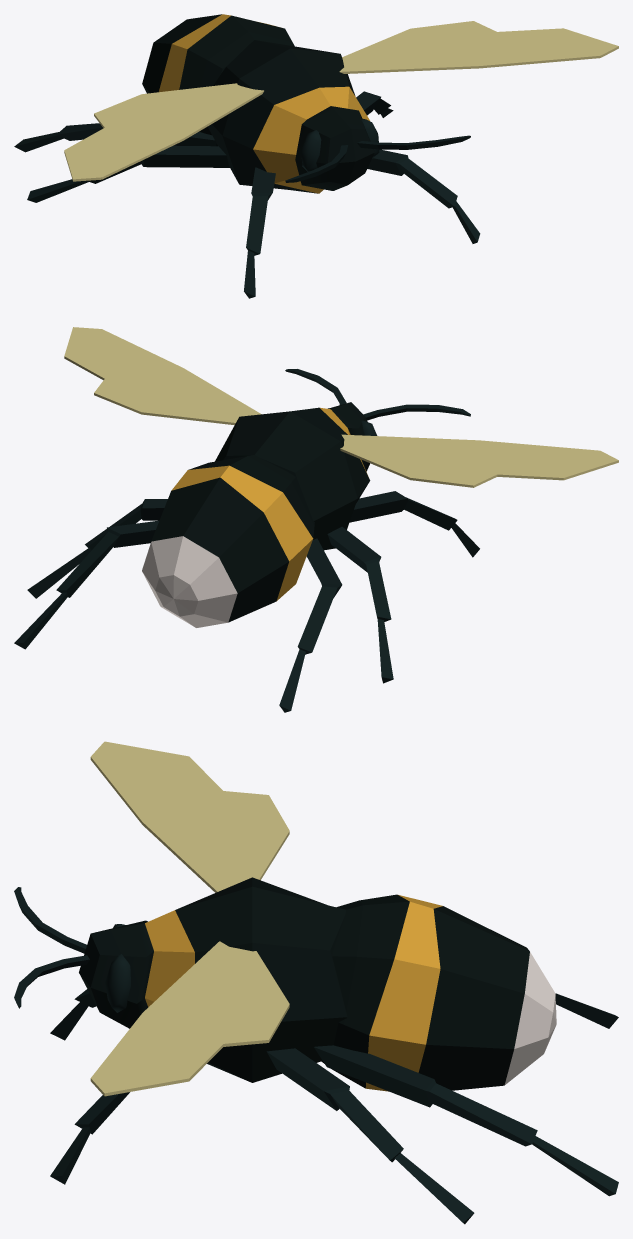
The model's file is bumblebee.gltf.
3 views of the same model, one above another, from view 1: azimuth 30°, elevation 25°; view 2: azimuth 150°, elevation 25°; view 3: azimuth 270°, elevation 25° (orthographic). The views are drawn at different scales.
Parts seen in each view (by area): view 1: node-0; view 2: node-0; view 3: node-0.
Boxes of the visible parts, x1,y1,x2,y2 form: node-0: (14,14,618,298); node-0: (14,327,618,712); node-0: (14,741,618,1224).
Size of the model in its own units: 1.82 by 0.5452 by 1.32.
Materials: 2 (1 with a texture image).
